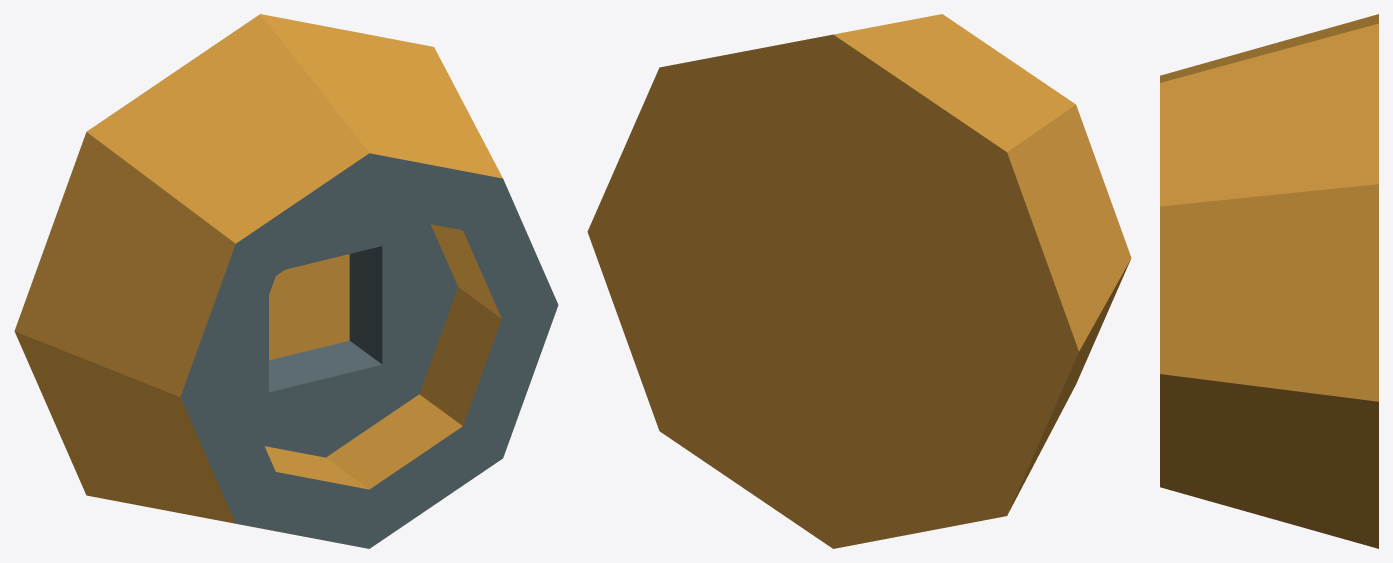
The model's file is scifi_plug.fbx.
3 views of the same model, side by side, from view 1: azimuth 30°, elevation 25°; view 2: azimuth 150°, elevation 25°; view 3: azimuth 270°, elevation 25° (orthographic).
Parts seen in each view (by area): view 1: Cylinder.007; view 2: Cylinder.007; view 3: Cylinder.007.
Boxes of the visible parts, left/top/right/bottom form: Cylinder.007: left=14, top=14, right=558, bottom=548; Cylinder.007: left=587, top=14, right=1131, bottom=548; Cylinder.007: left=1160, top=14, right=1378, bottom=548.
Bounding box in the file's own units: 0.52 × 0.52 × 0.2.
